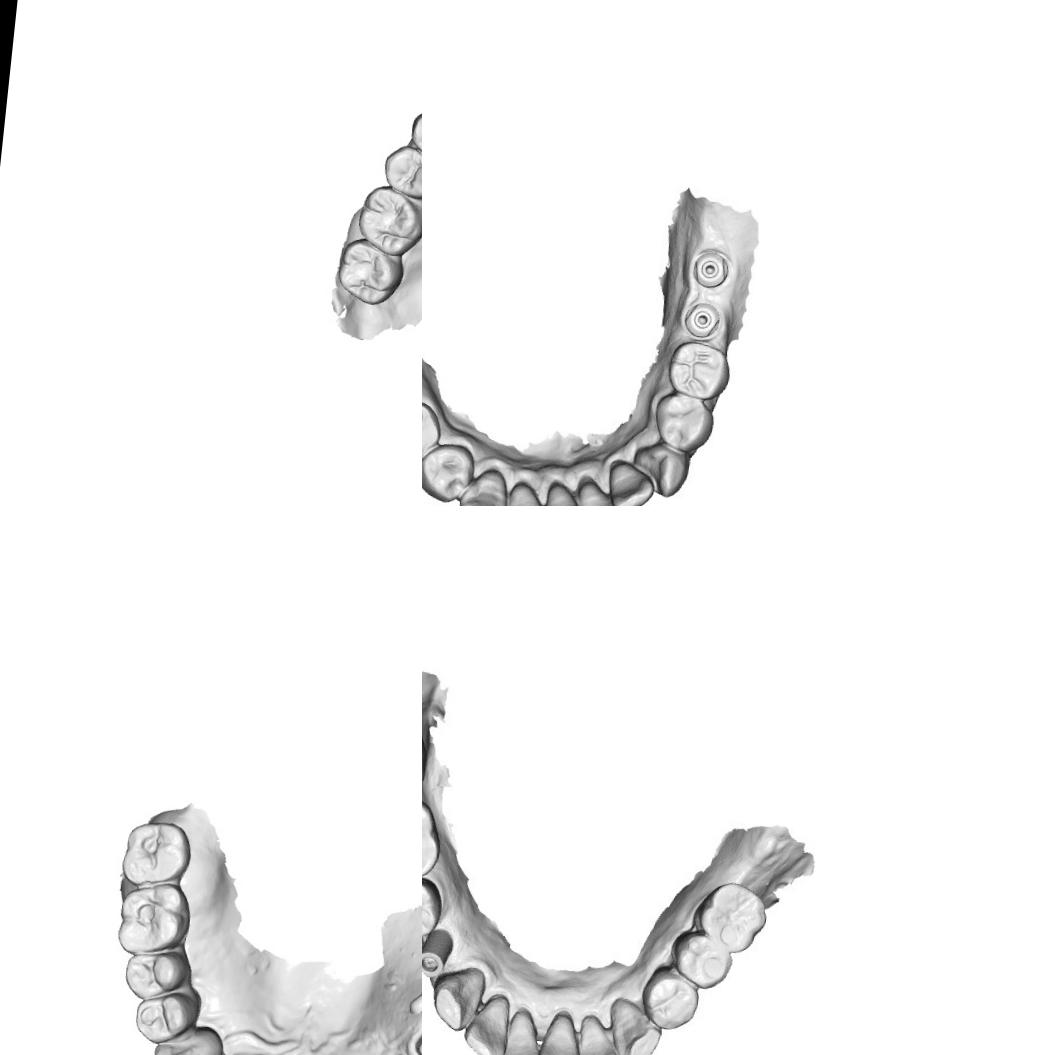canine: (426, 960, 488, 1032), (628, 438, 693, 498), (604, 999, 664, 1055), (149, 1021, 225, 1055), (455, 459, 508, 506)
implant: (422, 928, 459, 982), (677, 298, 722, 340), (688, 248, 728, 294)
incisor: (461, 993, 513, 1055), (570, 1007, 628, 1055), (605, 459, 657, 506), (494, 1006, 543, 1055), (537, 1009, 582, 1055), (573, 477, 621, 506), (499, 479, 544, 506), (540, 480, 583, 506)
molar: (115, 878, 194, 960), (119, 818, 195, 892), (333, 234, 408, 308), (354, 182, 422, 259), (698, 882, 772, 951), (422, 792, 440, 882)
premolar: (664, 340, 738, 406), (132, 985, 202, 1048), (122, 945, 194, 1005), (652, 390, 714, 454), (642, 968, 701, 1035), (675, 934, 739, 993), (422, 443, 471, 505), (380, 141, 422, 201), (422, 870, 444, 941), (422, 400, 441, 462), (407, 103, 422, 164)
